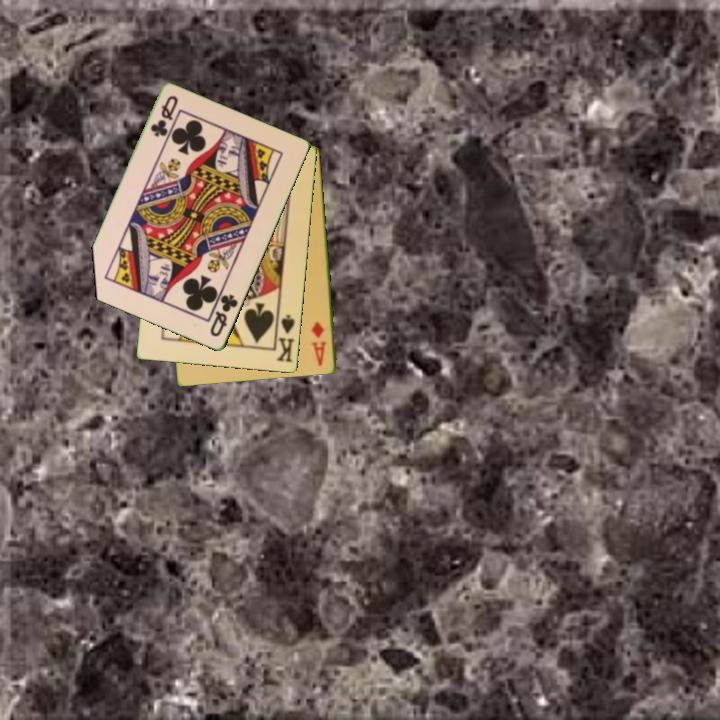Ad: (308, 318, 330, 369)
Ks: (272, 309, 298, 365)
Qc: (207, 291, 241, 340), (147, 92, 181, 140)
